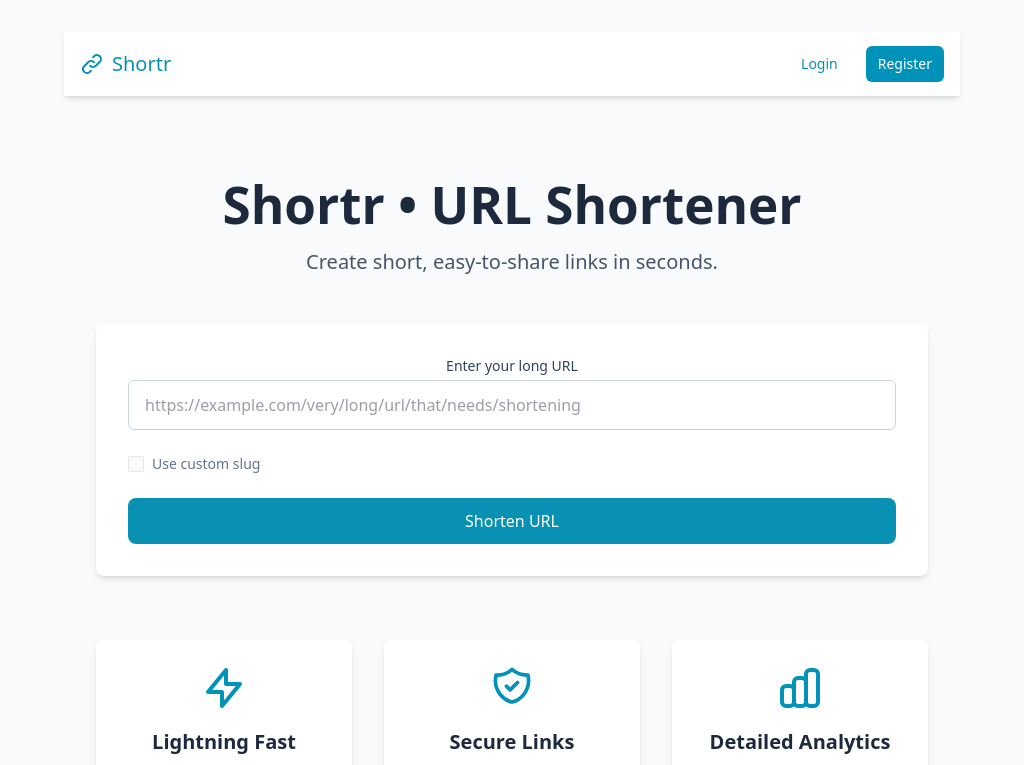
Test: Authentication › should navigate to login page
The image size is (1024, 765).
Click the link "Login": (820, 64) x1=801 y1=54 x2=838 y2=73
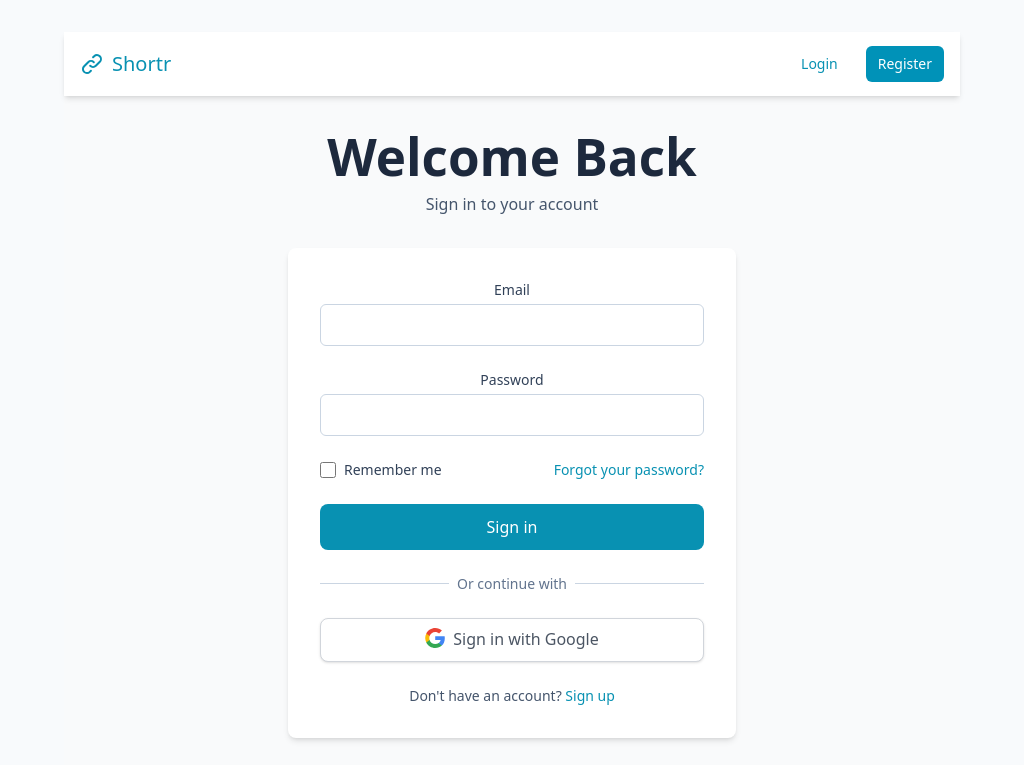
Expected: the heading "Welcome Back" is shown, x1=327 y1=121 x2=697 y2=191
Expected: the form is shown, x1=320 y1=280 x2=704 y2=549
Expected: the field labelled "Email" is shown, x1=320 y1=304 x2=704 y2=346
